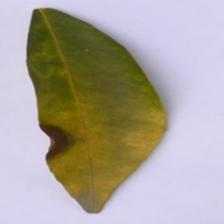black spot: (21, 96, 89, 170)
